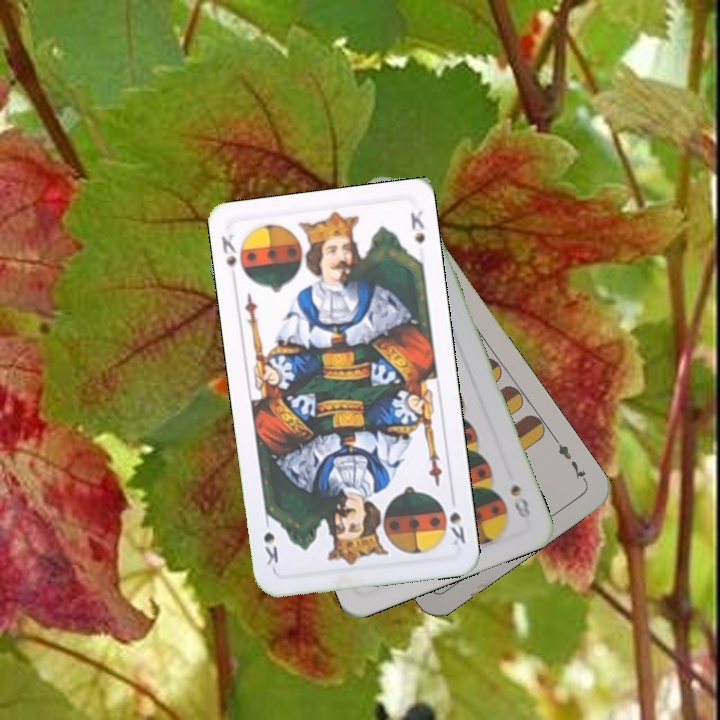E7: (550, 434, 590, 486)
S8: (506, 480, 533, 520)
SK: (217, 230, 249, 279), (445, 508, 468, 548)
